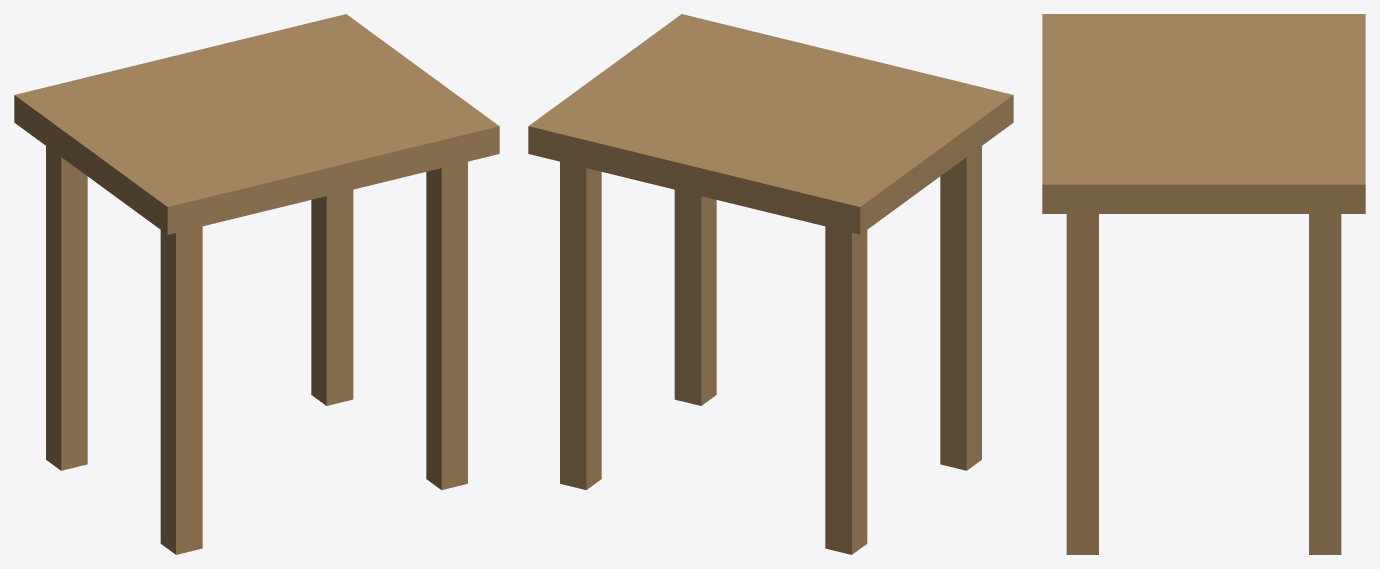
File: furn_nightstand_wood_01.glb
3 views of the same model, side by side, from view 1: azimuth 30°, elevation 25°; view 2: azimuth 150°, elevation 25°; view 3: azimuth 270°, elevation 25° (orthographic). The views are drawn at different scales.
Parts seen in each view (by area): view 1: furn_nightstand_wood_01; view 2: furn_nightstand_wood_01; view 3: furn_nightstand_wood_01.
Part boxes in pixels (box(x1,y1,x2,y2)): furn_nightstand_wood_01: box(14, 14, 499, 554); furn_nightstand_wood_01: box(528, 14, 1013, 554); furn_nightstand_wood_01: box(1042, 14, 1365, 554).
Size of the model in its own units: 0.5 by 0.52 by 0.4.
